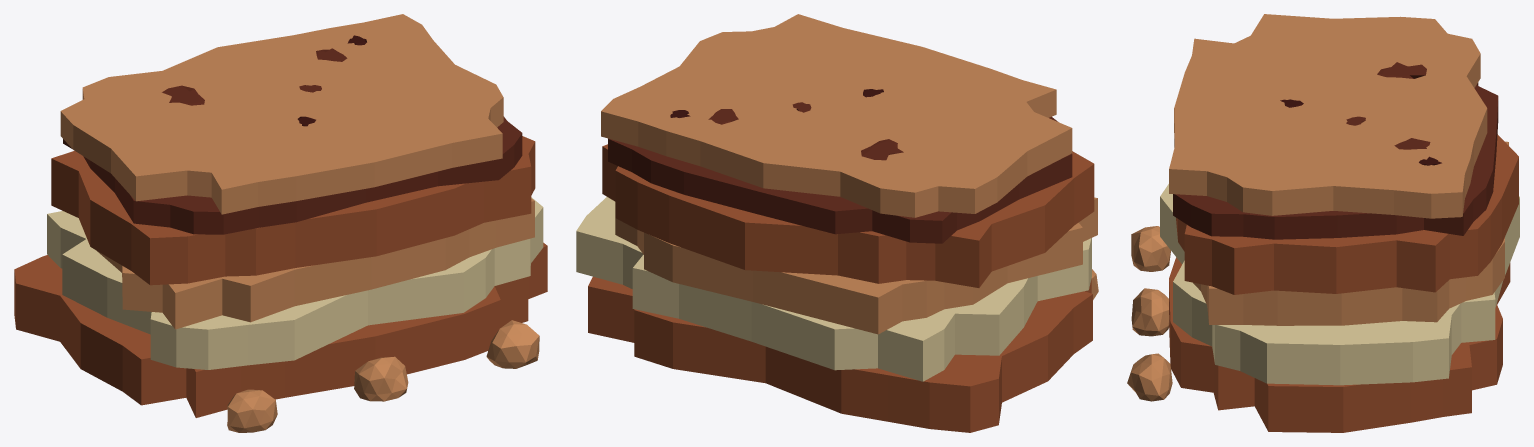
File: redrock_ledge_2.glb
The picture shows the model from 3 angles, left to right: view 1: azimuth 30°, elevation 25°; view 2: azimuth 150°, elevation 25°; view 3: azimuth 270°, elevation 25°; orthographic projection.
Visible parts, largest first — view 1: redrock_ledge_2; view 2: redrock_ledge_2; view 3: redrock_ledge_2.
Part boxes in pixels (box(x1,y1,x2,y2)): redrock_ledge_2: box(14, 14, 547, 432); redrock_ledge_2: box(576, 14, 1098, 432); redrock_ledge_2: box(1127, 14, 1519, 432).
Size of the model in its own units: 12.67 by 6.11 by 9.85.
